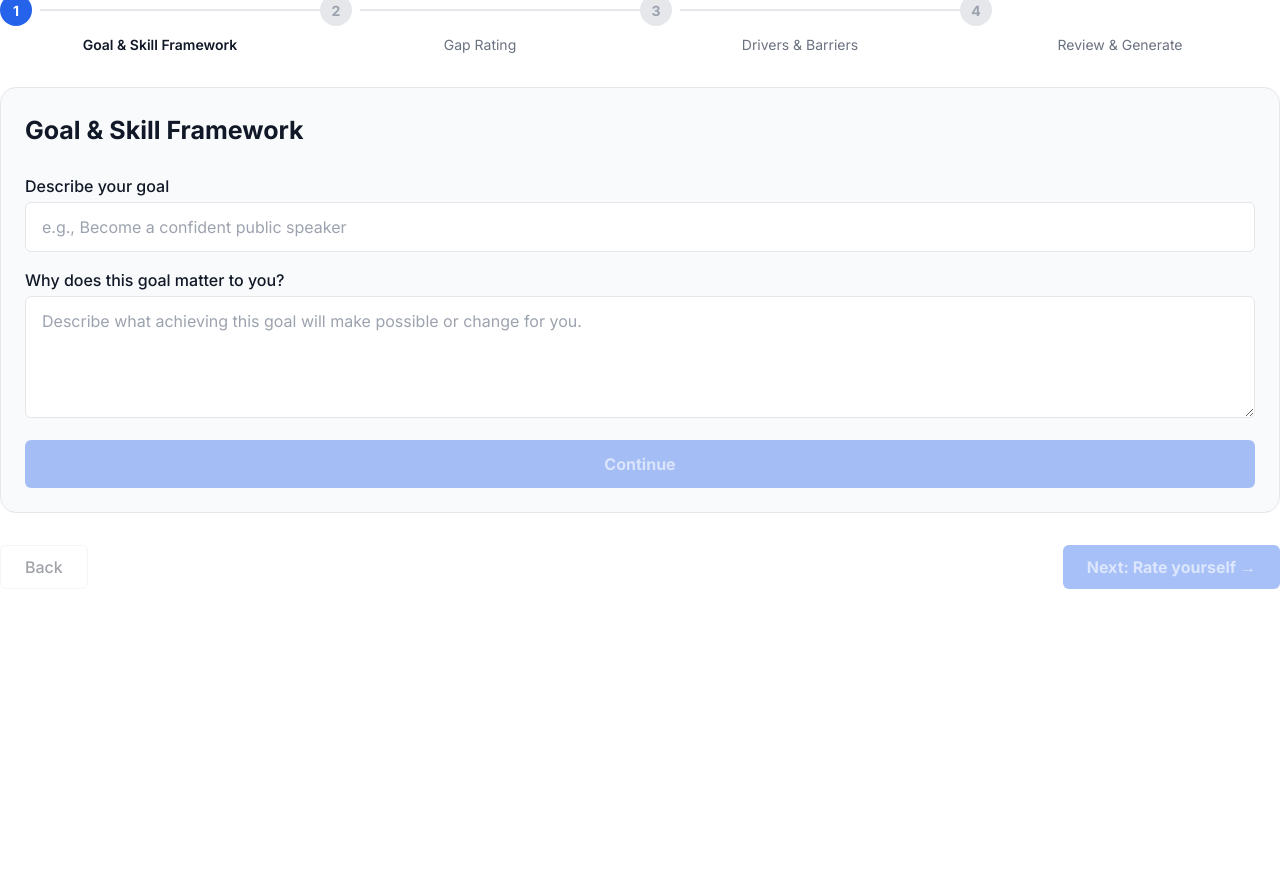
Test: WizardStep3 › Enter Step 3 — three blank groups with guidance › renders Drivers, Barriers, and an empty If–then group all blank on load
In the field labelled "Describe your goal": (640, 226) [25,202,1255,252], type "Learn to present"
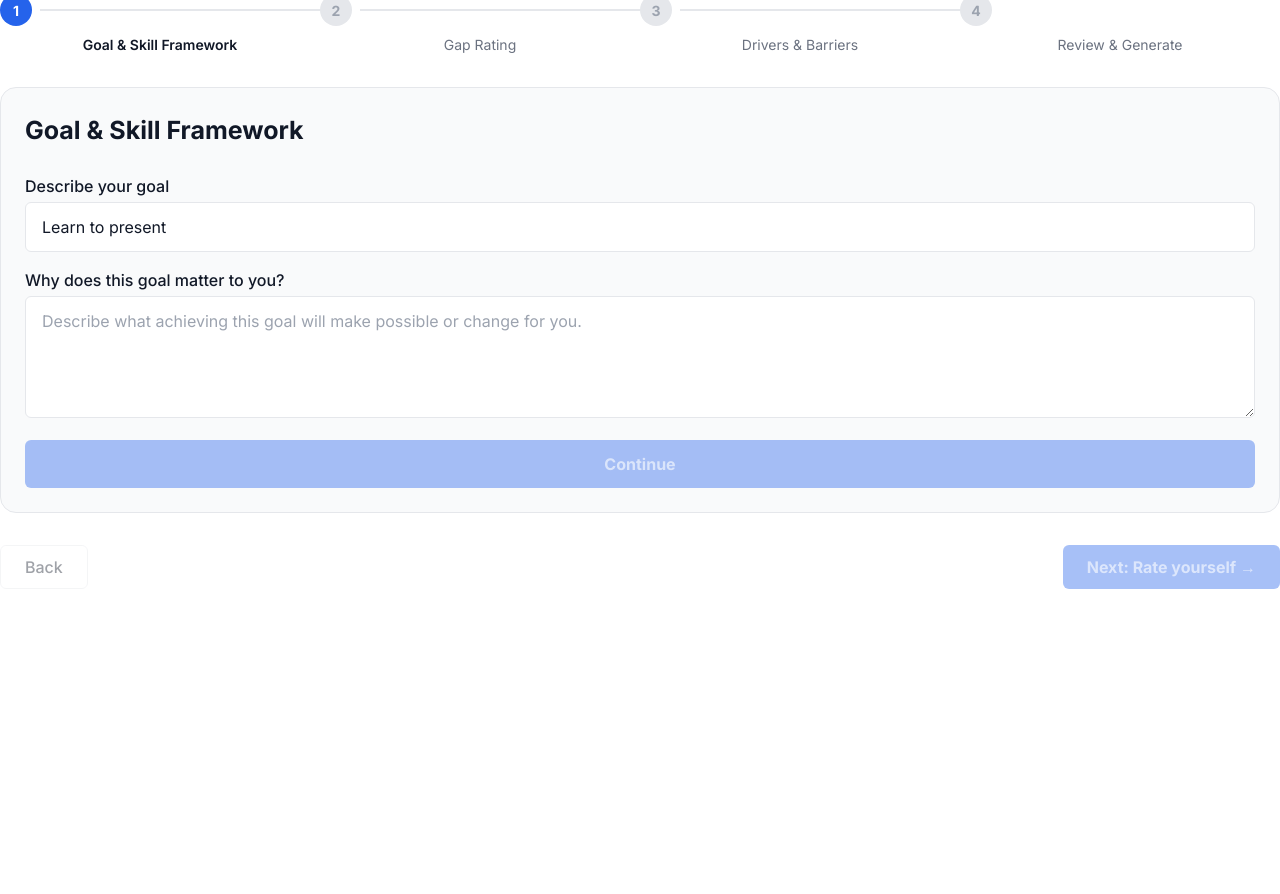
Replace the text in the text box labelled "Why does this goal matter to you?" with "To grow.": (640, 356) [25,296,1255,418]
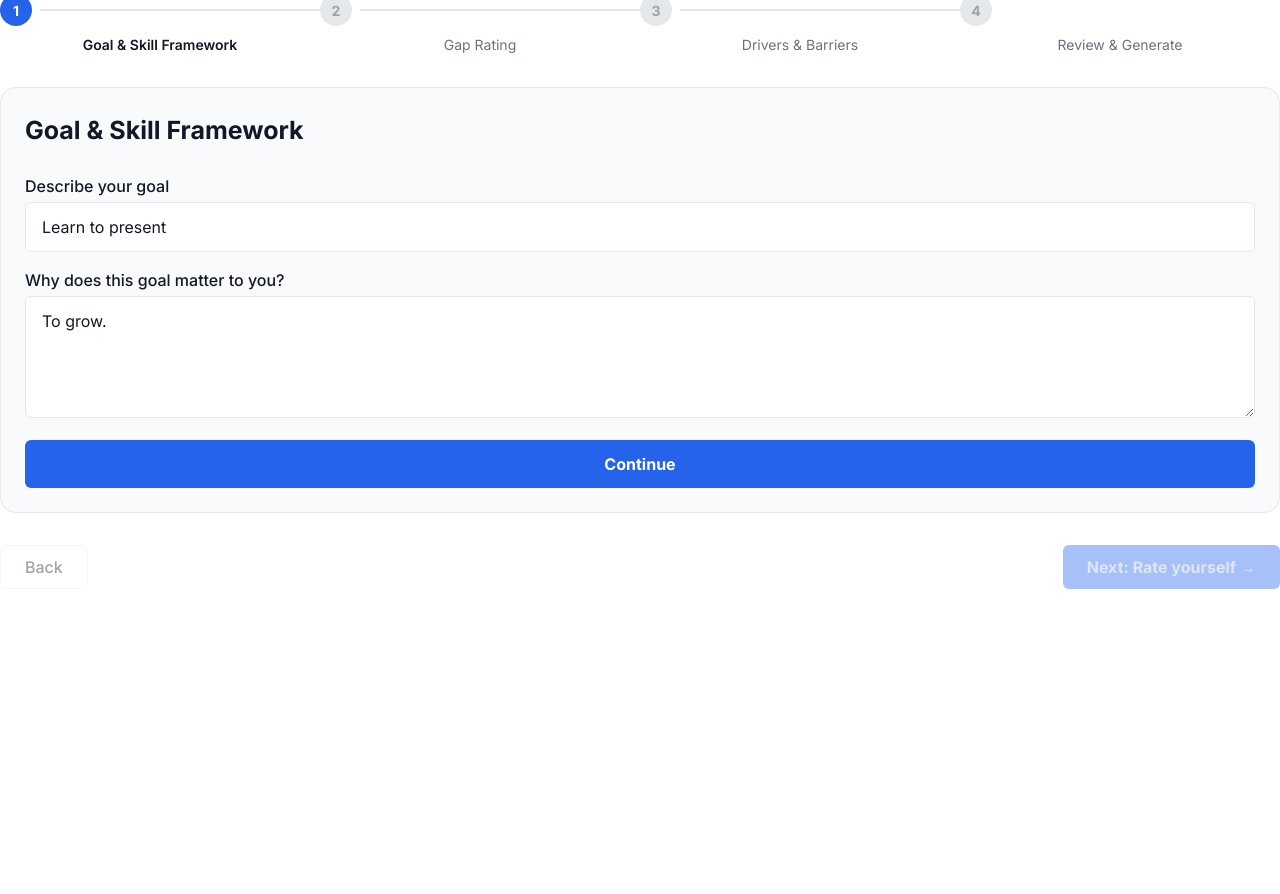
Click the button "Continue": click(640, 464) [25,440,1255,488]
(page scrolled)
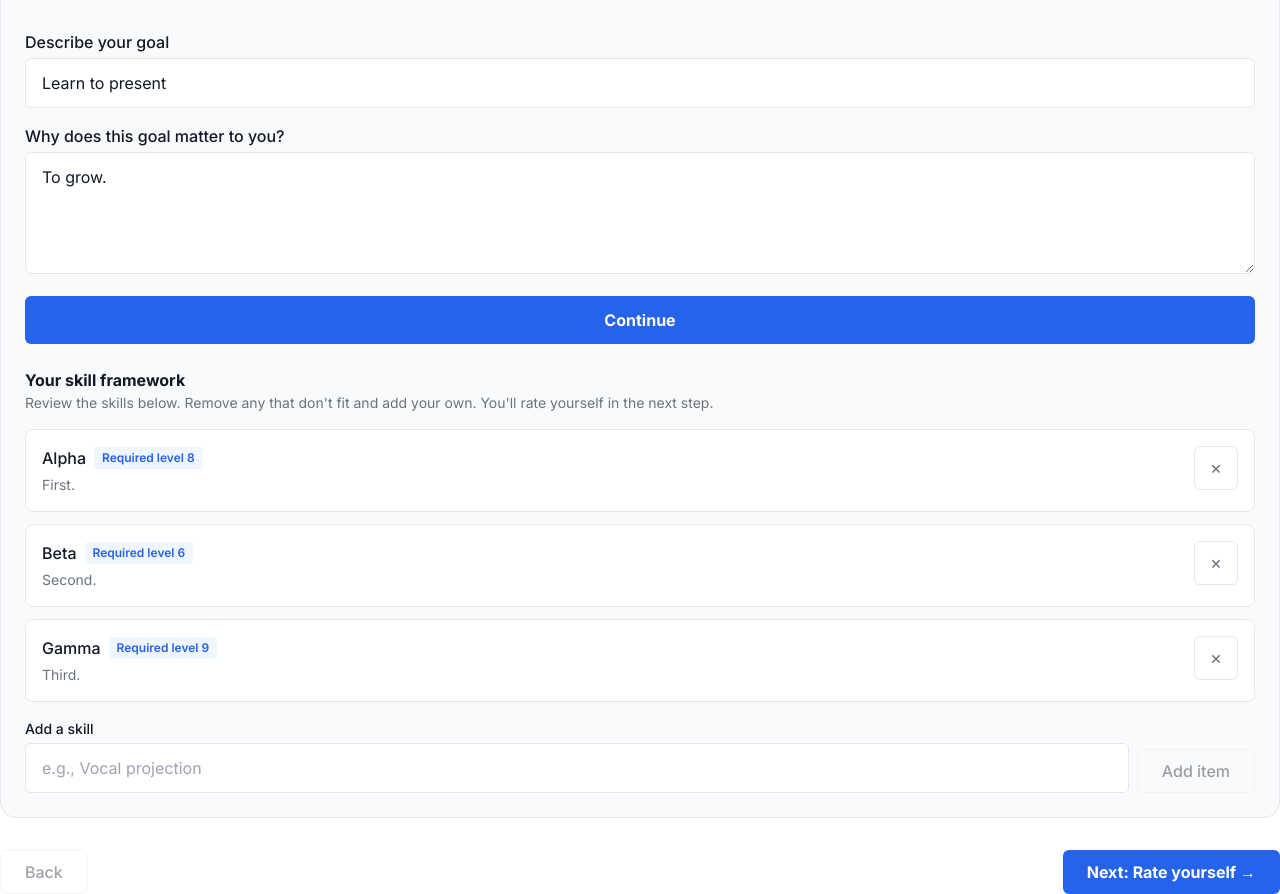
Expected: the heading "Your skill framework" is shown, [25,370,185,390]
Click the button "Next: Rate yourself →": click(1171, 872) [1063,850,1279,893]
(page scrolled)
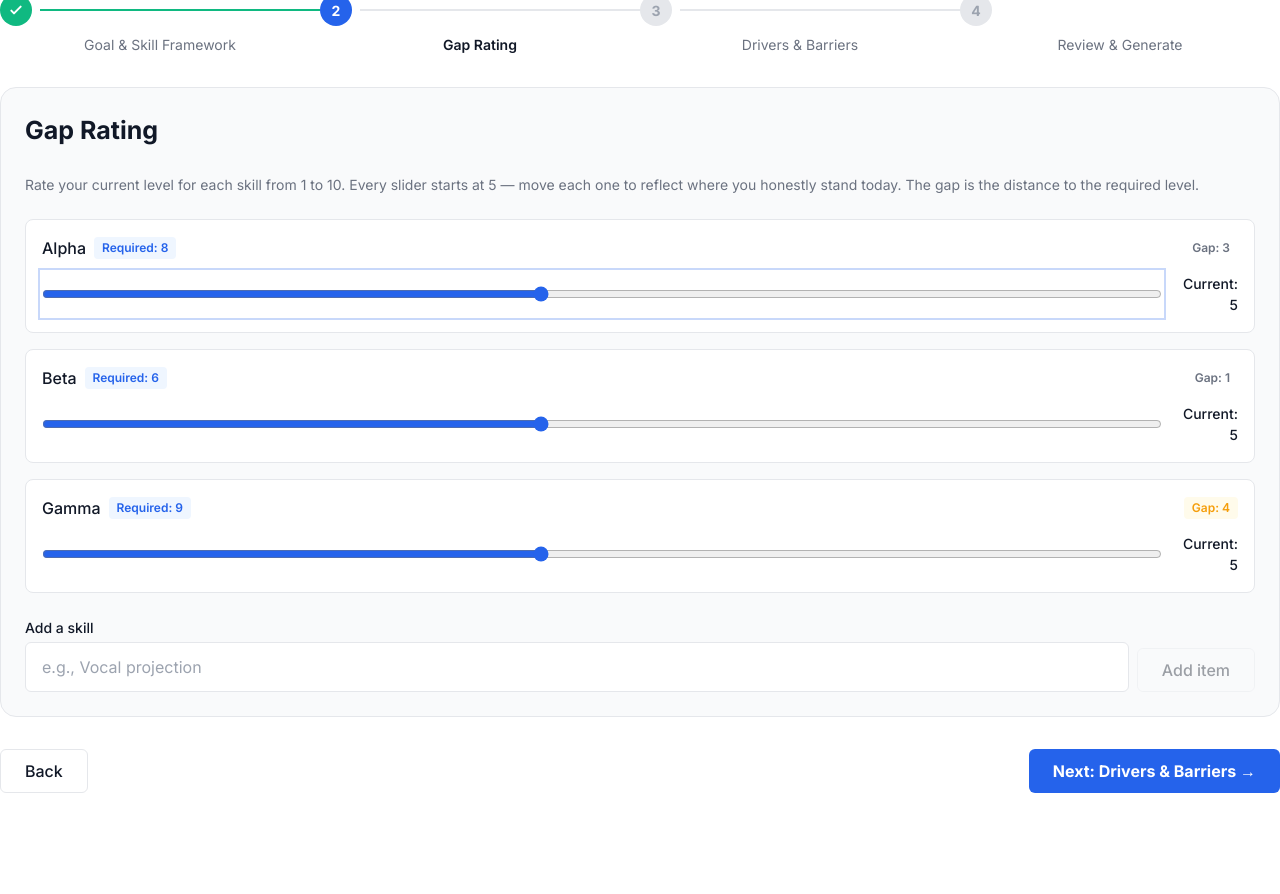
Expected: the heading "Gap Rating" is shown, [25,115,158,145]
Click the button "Next: Drivers & Barriers →": click(1154, 770) [1029,748,1279,792]
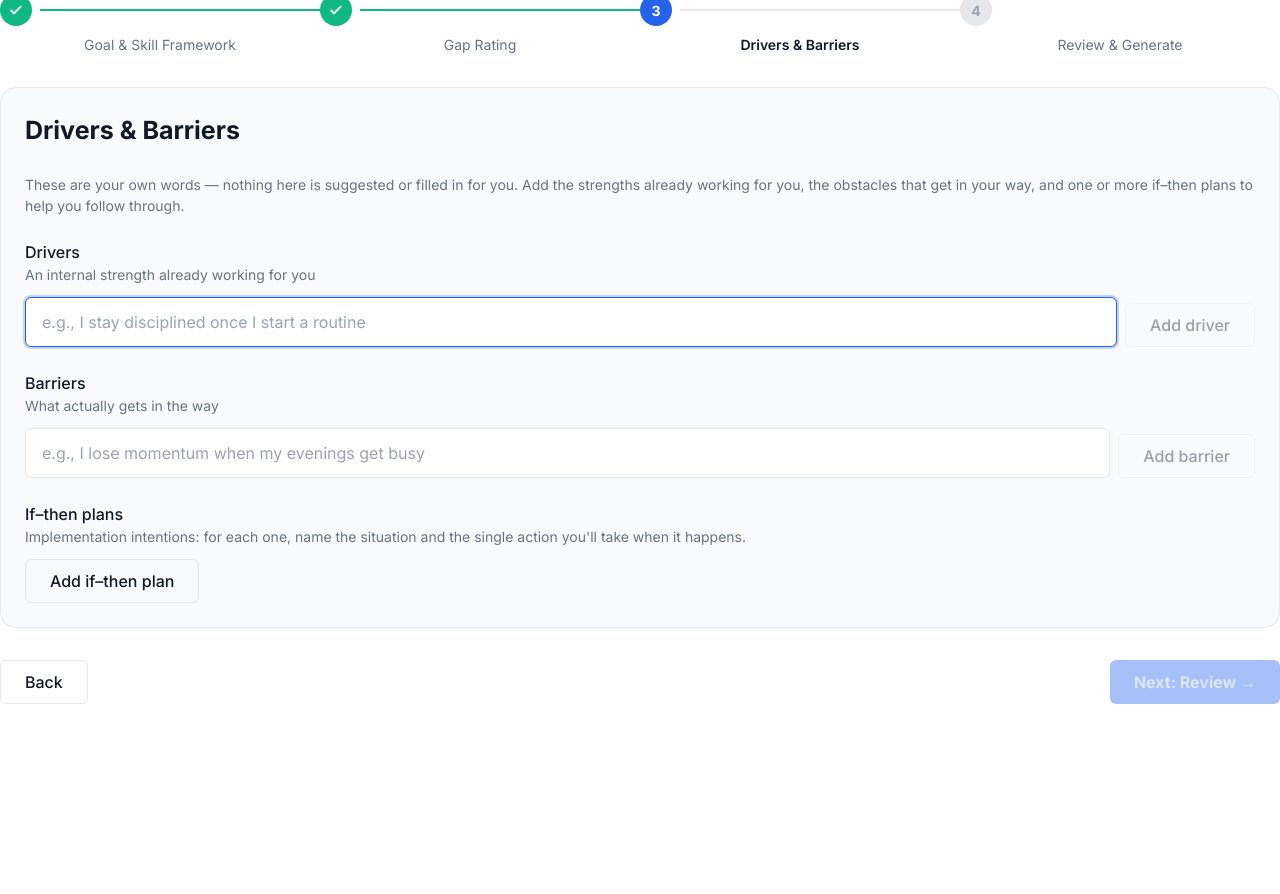
Expected: the field labelled "Drivers" is empty, [25,296,1117,346]
Expected: the heading "Drivers & Barriers" is shown, [25,115,240,145]
Expected: the field labelled "Barriers" is empty, [25,428,1110,478]
